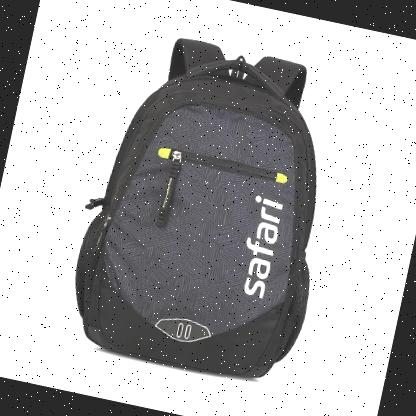bag: (56, 17, 364, 398)
